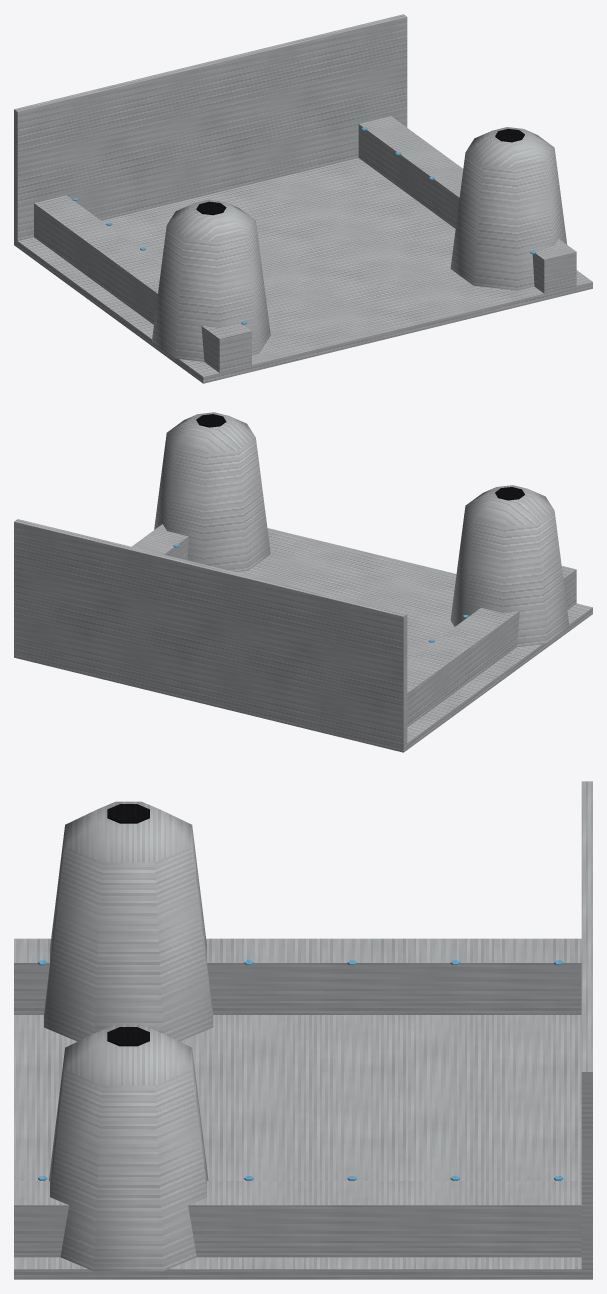
Rendered from carroceria_comp_n1.glb.
The picture shows the model from 3 angles, top to bottom: view 1: azimuth 30°, elevation 25°; view 2: azimuth 150°, elevation 25°; view 3: azimuth 270°, elevation 25°; orthographic projection. The views are drawn at different scales.
Parts seen in each view (by area): view 1: carroceria_comp_n1; view 2: carroceria_comp_n1; view 3: carroceria_comp_n1.
Part boxes in pixels (x1,y1,x2,y2): carroceria_comp_n1: (14, 14, 592, 383); carroceria_comp_n1: (14, 412, 592, 752); carroceria_comp_n1: (14, 781, 592, 1279).
Size of the model in its own units: 1.22 by 0.404 by 1.01.
Materials: 1 (1 with a texture image).
